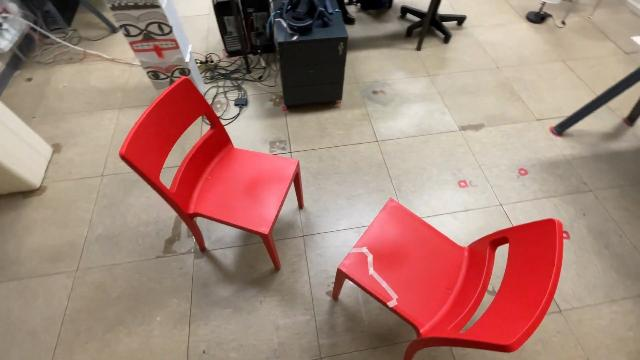Chair: (327, 195, 568, 360), (116, 74, 306, 274)
